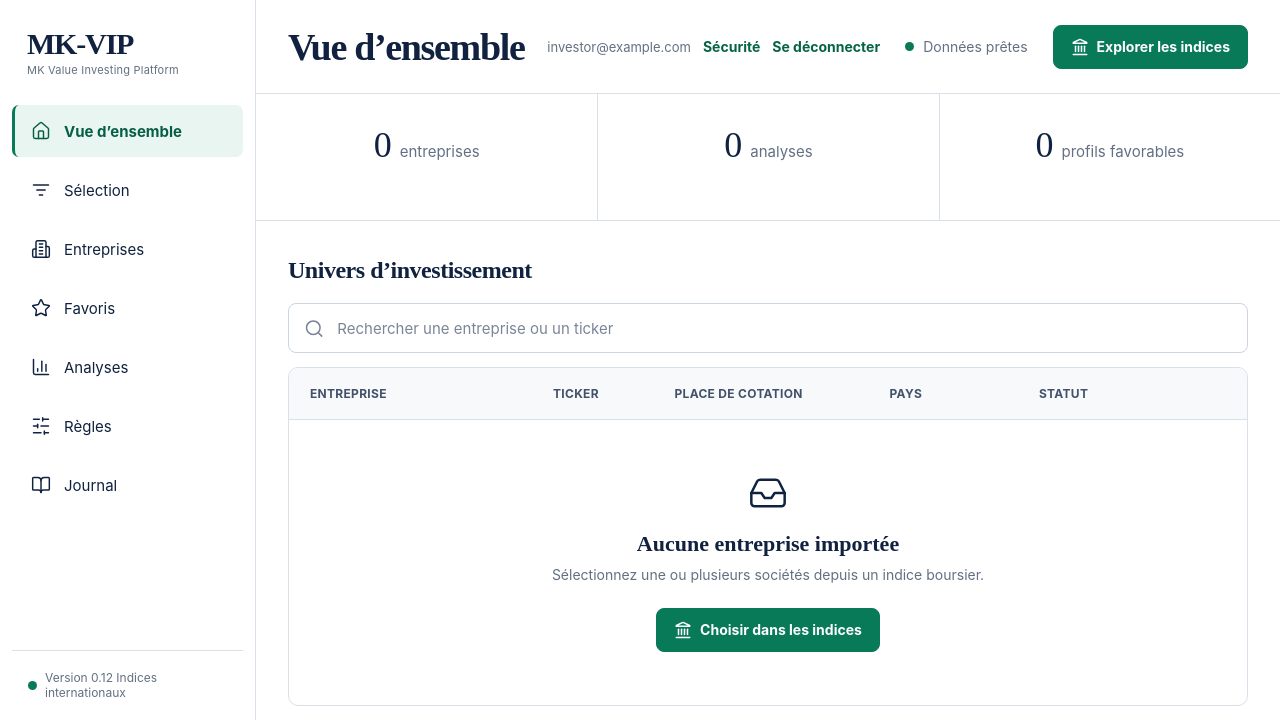
Test: MK-VIP authentication › logs out and returns to the login screen
The width and height of the screenshot is (1280, 720).
Click the button "Se déconnecter" at (826, 46), box [772, 24, 880, 68]
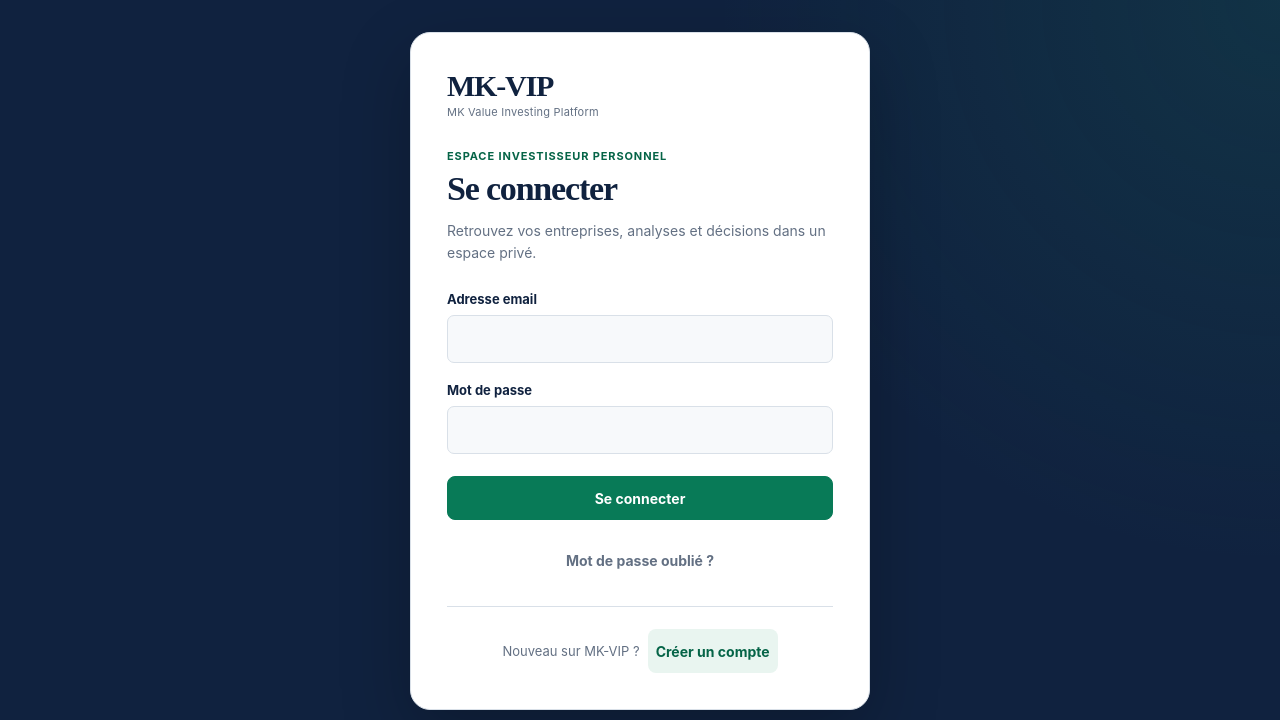
Expected: the heading "Se connecter" is shown, [447, 170, 617, 207]
